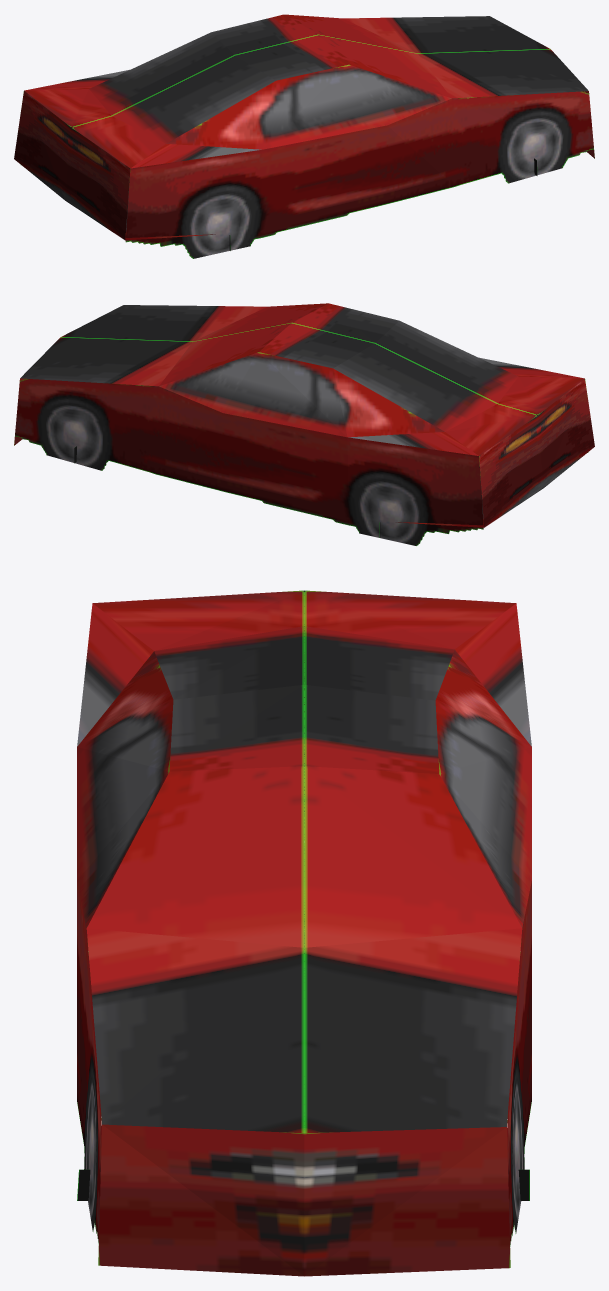
The model's file is _MID_SUP.obj.
3 renders of one model, top to bottom at view 1: azimuth 30°, elevation 25°; view 2: azimuth 150°, elevation 25°; view 3: azimuth 270°, elevation 25°, orthographic. The views are drawn at different scales.
Size of the model in its own units: 579 by 163 by 236.
1 material, 1 textured.
